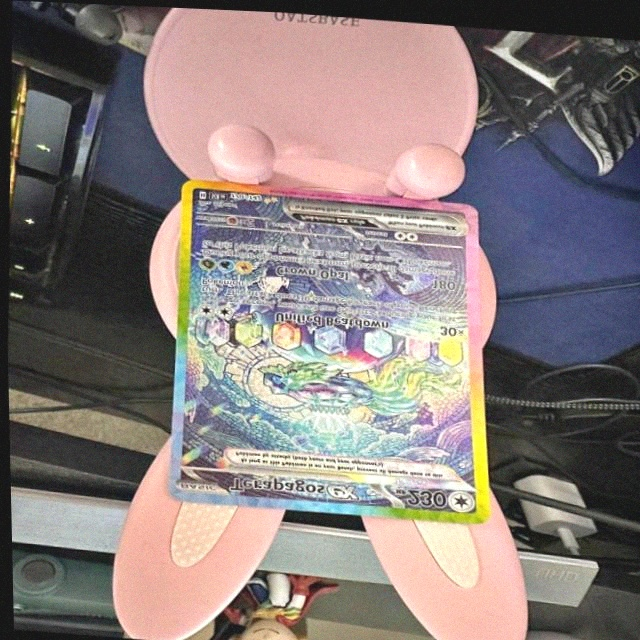card: (164, 176, 487, 520)
